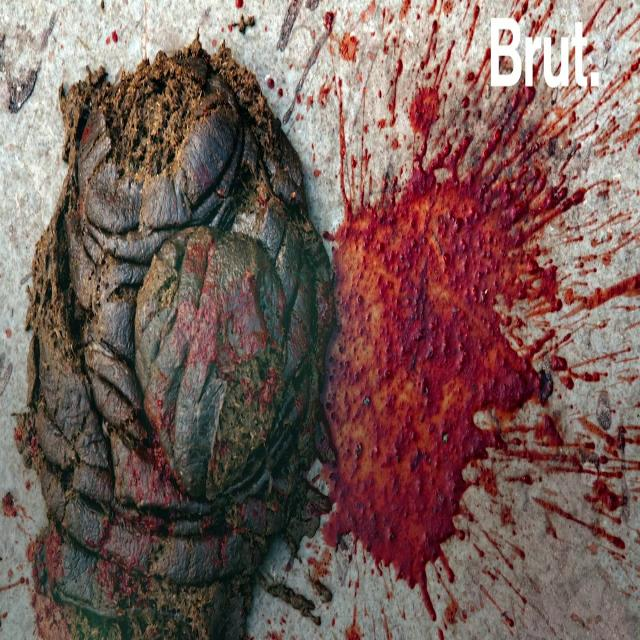spit: (330, 125, 602, 524)
